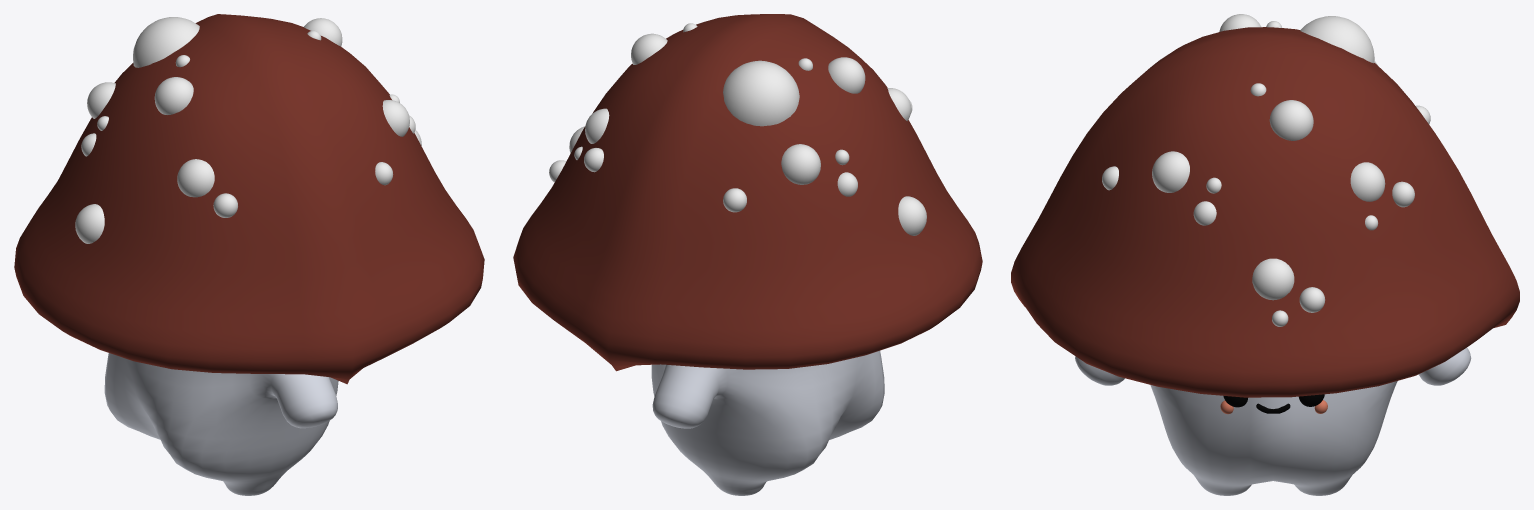
The model's file is houbicky.glb.
The picture shows the model from 3 angles, left to right: view 1: azimuth 30°, elevation 25°; view 2: azimuth 150°, elevation 25°; view 3: azimuth 270°, elevation 25°; orthographic projection. The views are drawn at different scales.
Parts seen in each view (by area): view 1: kloboucek, telicko, Sphere.045, Sphere.046, Sphere.044, Sphere.026, Sphere.015, Sphere.041, Sphere.018; view 2: kloboucek, telicko, Sphere.045, Sphere.041, Sphere.044, Sphere.026, Sphere.018, Sphere.020; view 3: kloboucek, telicko, Sphere.045, Sphere.018, Sphere.025, Sphere.015, Sphere.020.
Part boxes in pixels (x1=…): kloboucek: x1=14, y1=14, x2=484, y2=384; telicko: x1=104, y1=353, x2=338, y2=495; Sphere.045: x1=133, y1=17, x2=199, y2=67; Sphere.046: x1=177, y1=159, x2=214, y2=197; Sphere.044: x1=154, y1=77, x2=193, y2=114; Sphere.026: x1=75, y1=204, x2=104, y2=243; Sphere.015: x1=382, y1=100, x2=409, y2=136; Sphere.041: x1=87, y1=82, x2=115, y2=118; Sphere.018: x1=304, y1=18, x2=342, y2=46; kloboucek: x1=513, y1=14, x2=982, y2=371; telicko: x1=651, y1=350, x2=884, y2=495; Sphere.045: x1=723, y1=60, x2=799, y2=126; Sphere.041: x1=781, y1=144, x2=820, y2=184; Sphere.044: x1=828, y1=57, x2=865, y2=93; Sphere.026: x1=898, y1=196, x2=926, y2=235; Sphere.018: x1=631, y1=33, x2=667, y2=64; Sphere.020: x1=585, y1=108, x2=609, y2=143; kloboucek: x1=1011, y1=27, x2=1519, y2=397; telicko: x1=1075, y1=347, x2=1471, y2=495; Sphere.045: x1=1300, y1=16, x2=1374, y2=63; Sphere.018: x1=1269, y1=100, x2=1313, y2=140; Sphere.025: x1=1252, y1=258, x2=1294, y2=300; Sphere.015: x1=1152, y1=151, x2=1189, y2=192; Sphere.020: x1=1350, y1=162, x2=1385, y2=201.
Size of the model in its own units: 1.22 by 1.28 by 1.28.
